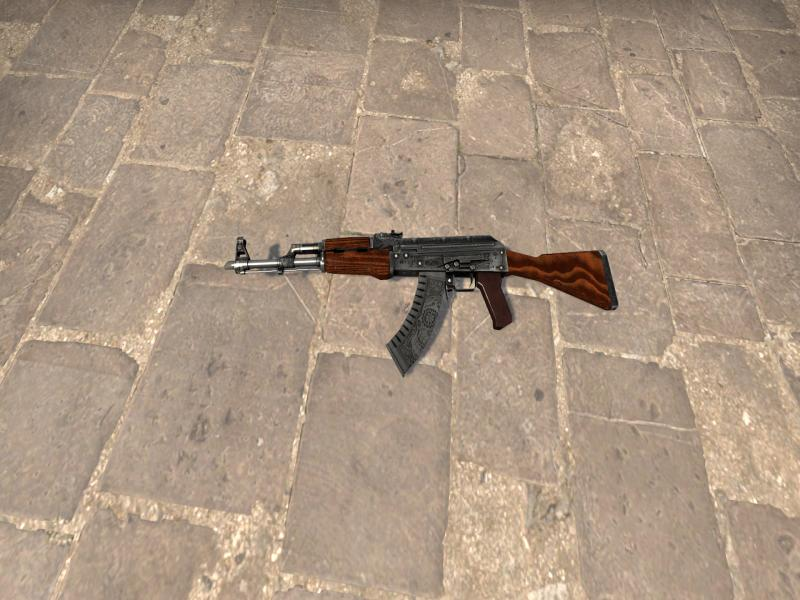AK47: (225, 230, 619, 372)
